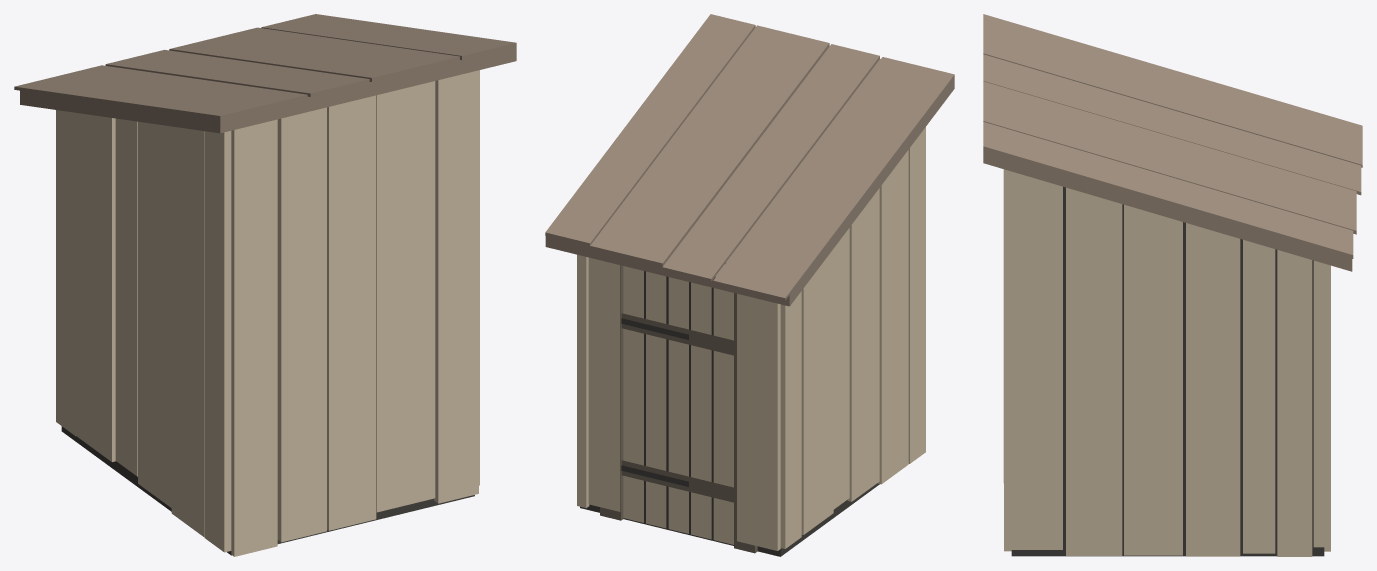
File: recon_1835_blk_randolph_wells_a3_09__inferred_1835.glb
3 views of the same model, side by side, from view 1: azimuth 30°, elevation 25°; view 2: azimuth 150°, elevation 25°; view 3: azimuth 270°, elevation 25° (orthographic). The views are drawn at different scales.
Parts seen in each view (by area): view 1: recon_1835_blk_randolph_wells_a3_09__inferred_1835; view 2: recon_1835_blk_randolph_wells_a3_09__inferred_1835; view 3: recon_1835_blk_randolph_wells_a3_09__inferred_1835.
Part boxes in pixels (x1,y1,x2,y2): recon_1835_blk_randolph_wells_a3_09__inferred_1835: [14, 14, 516, 556]; recon_1835_blk_randolph_wells_a3_09__inferred_1835: [545, 14, 954, 556]; recon_1835_blk_randolph_wells_a3_09__inferred_1835: [983, 14, 1362, 556].
Bounding box in the file's own units: 1.86 × 2.75 × 2.24.
